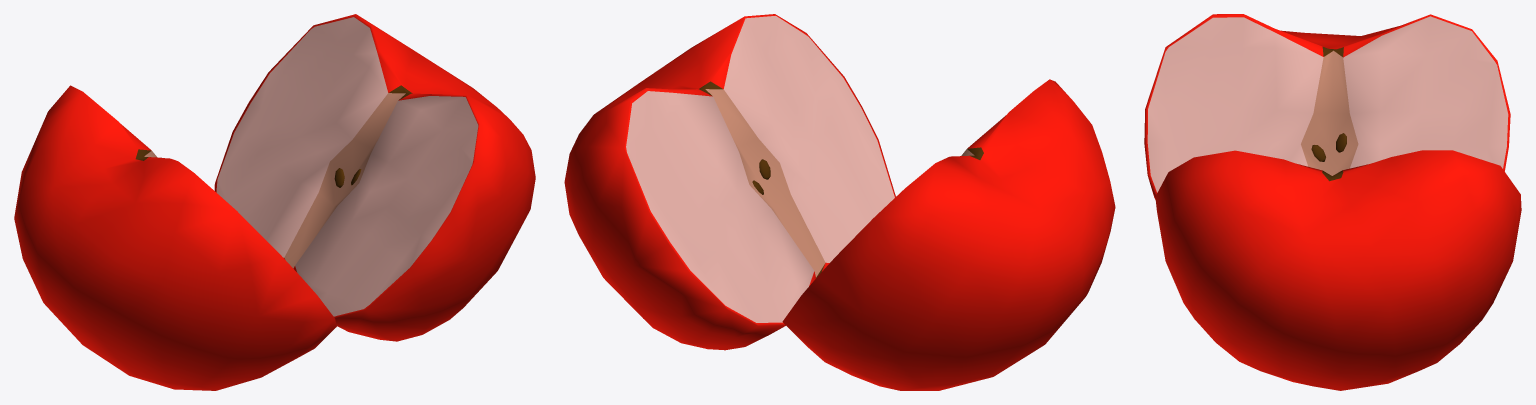
Rendered from Yarim_Elma.fbx.
3 views of the same model, side by side, from view 1: azimuth 30°, elevation 25°; view 2: azimuth 150°, elevation 25°; view 3: azimuth 270°, elevation 25° (orthographic). The views are drawn at different scales.
Visible parts, largest first — view 1: Elma.001; view 2: Elma.001; view 3: Elma.001.
Boxes of the visible parts, x1,y1,x2,y2 form: Elma.001: (14, 14, 535, 390); Elma.001: (564, 14, 1115, 390); Elma.001: (1144, 14, 1521, 390).
Bounding box in the file's own units: 283 × 146 × 199.
